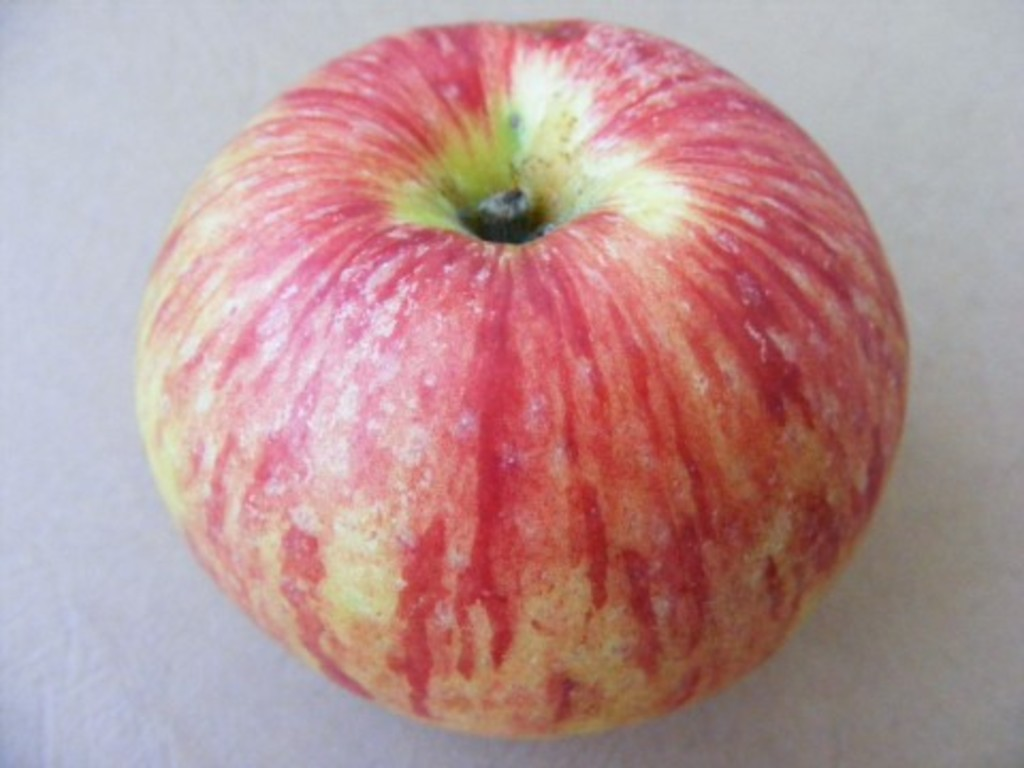Apple: (104, 0, 921, 768)
